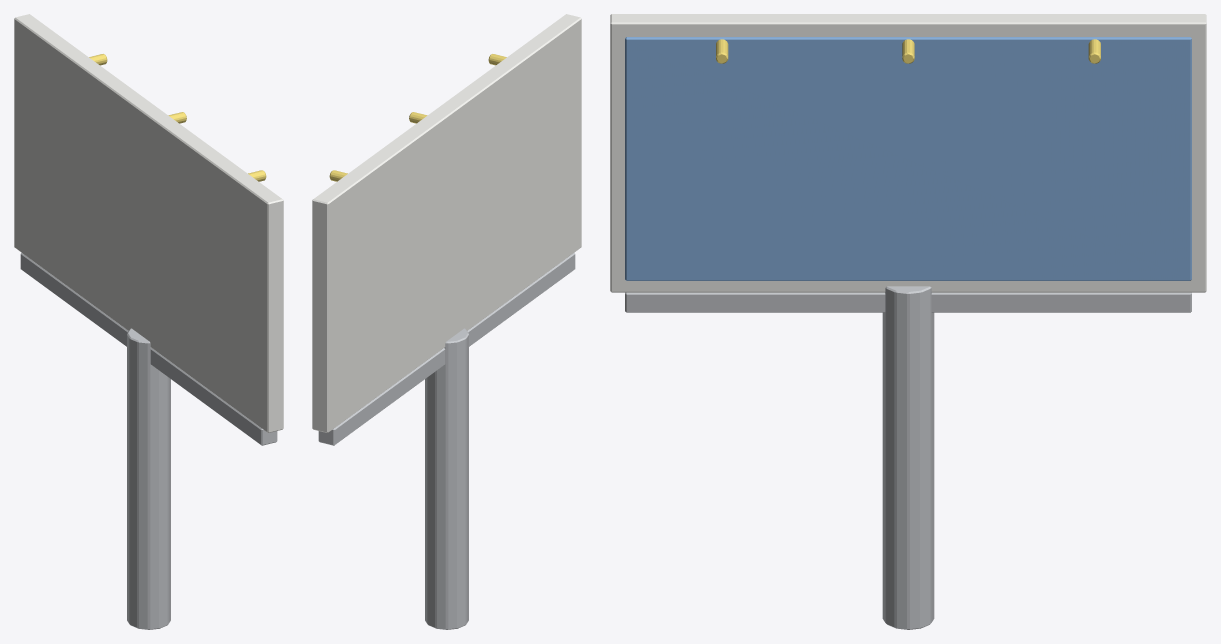
The model's file is 构筑_广告牌_01.fbx.
3 renders of one model, left to right at view 1: azimuth 30°, elevation 25°; view 2: azimuth 150°, elevation 25°; view 3: azimuth 270°, elevation 25°, orthographic. The views are drawn at different scales.
Visible parts, largest first — view 1: 牌面, 立柱.003, 横梁.001, 射灯; view 2: 牌面, 立柱.003, 横梁.001, 射灯; view 3: 画面.001, 牌面, 立柱.003, 横梁.001, 射灯.
Boxes of the visible parts, x1,y1,x2,y2 form: 牌面: (14,14,283,432); 立柱.003: (127,328,170,629); 横梁.001: (20,252,277,445); 射灯: (89,54,266,181); 牌面: (312,14,581,432); 立柱.003: (425,328,468,629); 横梁.001: (318,252,575,445); 射灯: (329,54,506,181); 画面.001: (625,37,1191,280); 牌面: (610,14,1206,292); 立柱.003: (882,286,934,629); 横梁.001: (625,292,1191,312); 射灯: (716,39,1100,63).
Bounding box in the file's own units: 99.48 × 890 × 800.
